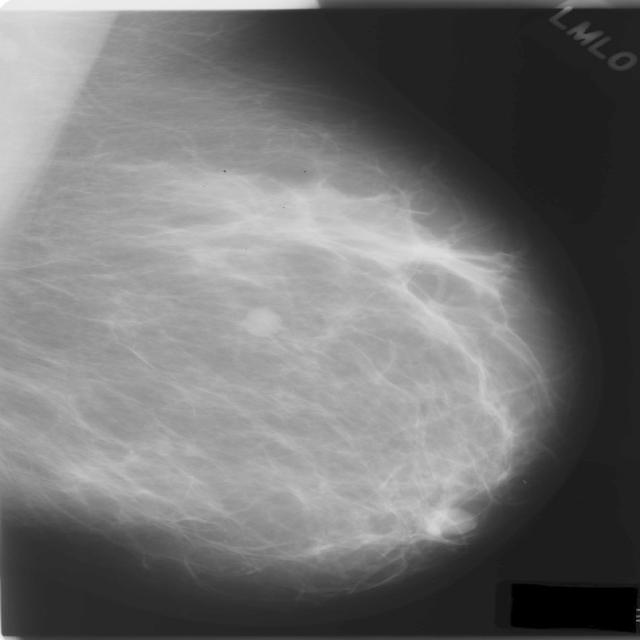tumour: (241, 304, 282, 336)
